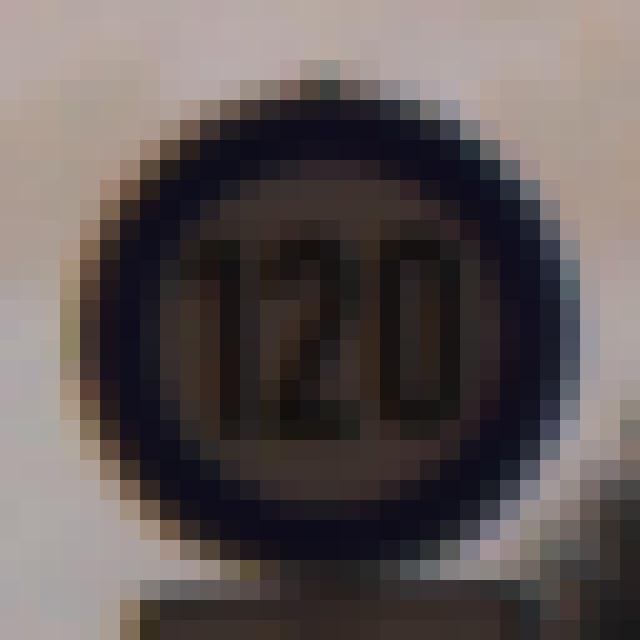SPEED LIMIT 120: (65, 85, 582, 568)
